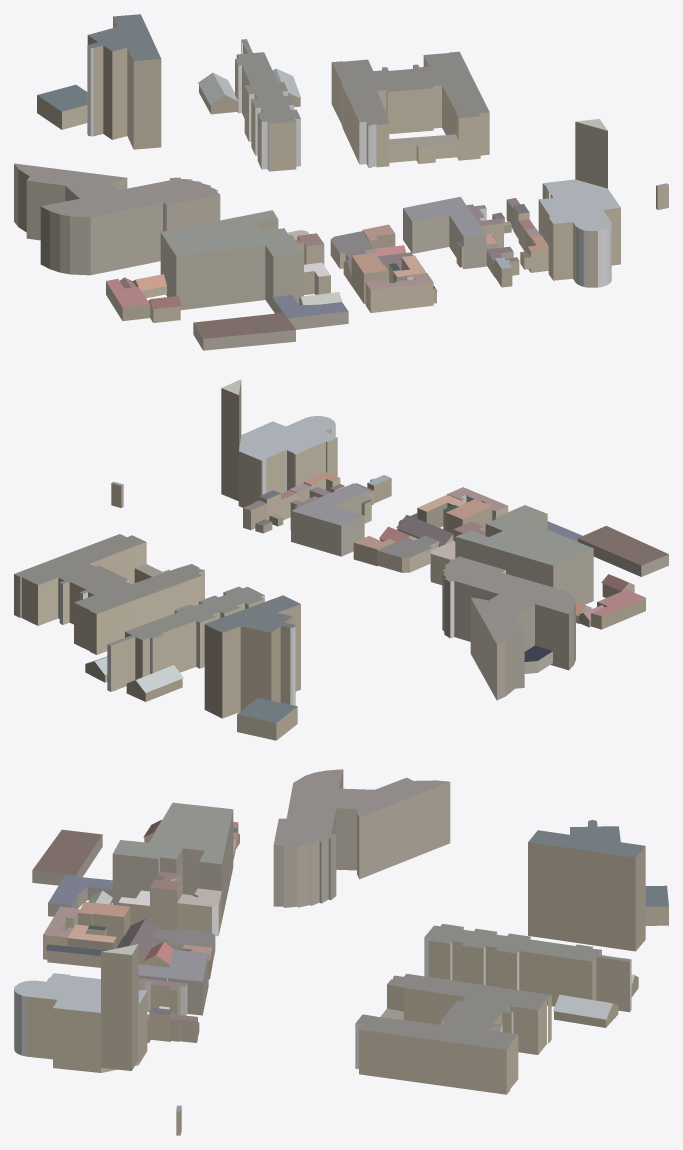
3 views of the same model, one above another, from view 1: azimuth 30°, elevation 25°; view 2: azimuth 150°, elevation 25°; view 3: azimuth 270°, elevation 25° (orthographic). The views are drawn at different scales.
Parts seen in each view (by area): view 1: tuile; view 2: tuile; view 3: tuile.
Part boxes in pixels (box(x1,y1,x2,y2)): tuile: box(14, 14, 668, 350); tuile: box(14, 379, 668, 740); tuile: box(14, 769, 668, 1135).
Bounding box in the file's own units: 243 × 53.38 × 237.
